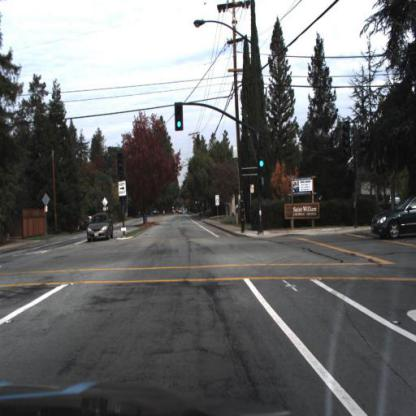car: (84, 203, 113, 245), (85, 210, 112, 242)
trafficLight-Green: (255, 139, 267, 172), (174, 101, 184, 133), (174, 102, 183, 134), (257, 140, 265, 166)
